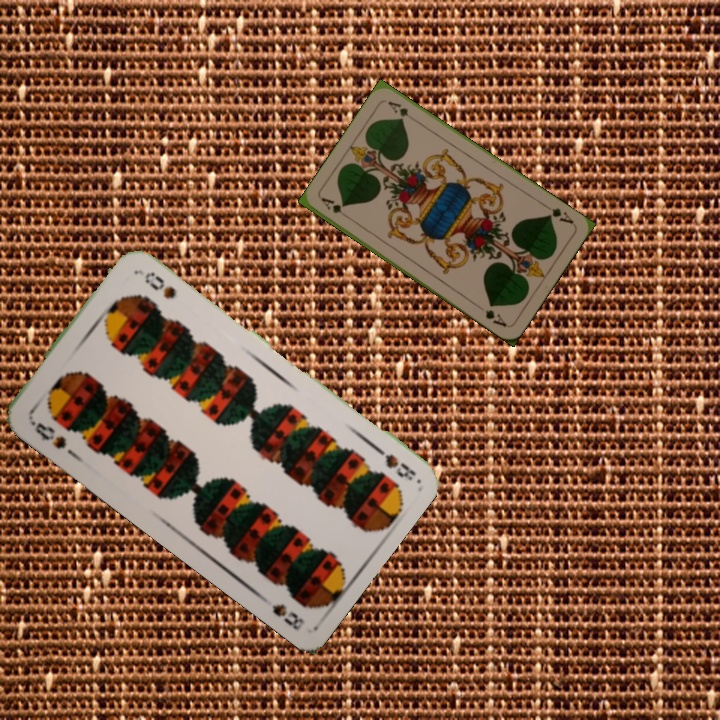GA: (317, 194, 353, 222), (540, 200, 576, 226)
S8: (367, 439, 419, 484), (24, 407, 69, 452)
